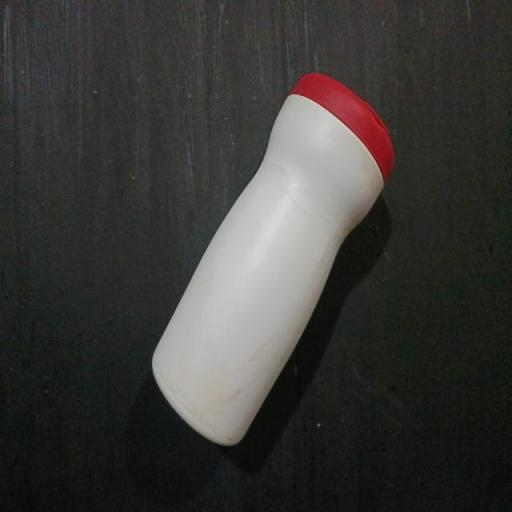plastic: (130, 58, 408, 460)
